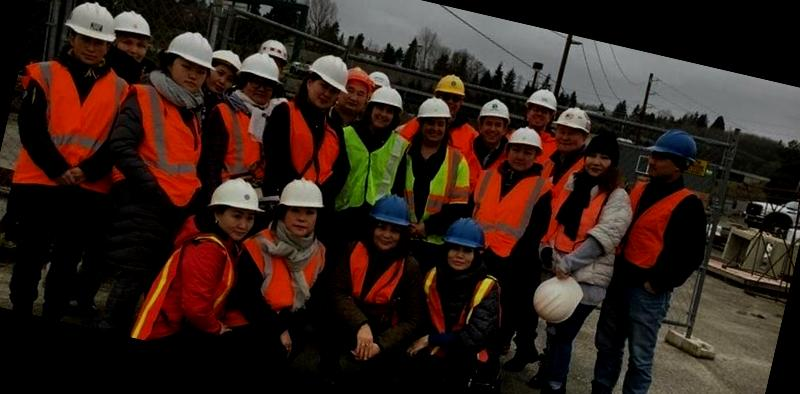helmet: (522, 262, 586, 334), (635, 118, 711, 177), (57, 0, 133, 59), (158, 22, 227, 84), (226, 44, 290, 98), (209, 170, 269, 226), (362, 186, 423, 237), (302, 50, 364, 99), (270, 172, 328, 222), (439, 208, 489, 255), (411, 91, 465, 134), (522, 79, 568, 124), (498, 122, 546, 165), (428, 62, 472, 103), (472, 89, 516, 130), (364, 79, 408, 118), (552, 100, 597, 138)
person: (70, 18, 239, 346), (0, 0, 148, 316), (565, 117, 730, 394), (504, 113, 644, 394), (126, 158, 272, 360), (308, 182, 433, 394), (394, 207, 527, 394), (249, 38, 374, 210), (226, 168, 339, 356), (190, 43, 294, 227), (316, 73, 420, 224), (462, 119, 560, 262), (385, 90, 486, 228), (458, 87, 520, 182)
